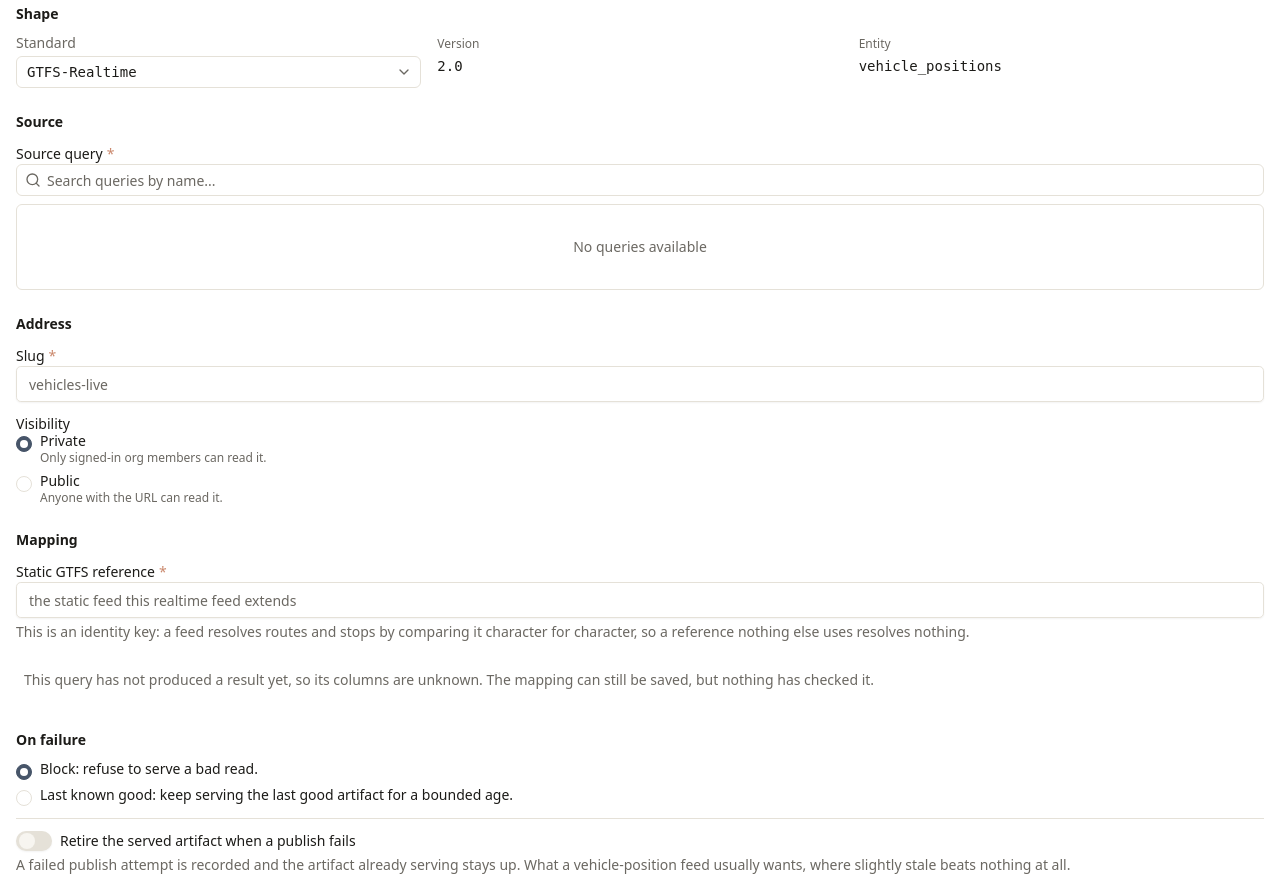
Test: retire on failure › states the consequence of the direction it is actually in
Click the switch named "retire the served artifact" at (34, 841), box x1=16 y1=831 x2=52 y2=851
(page scrolled)
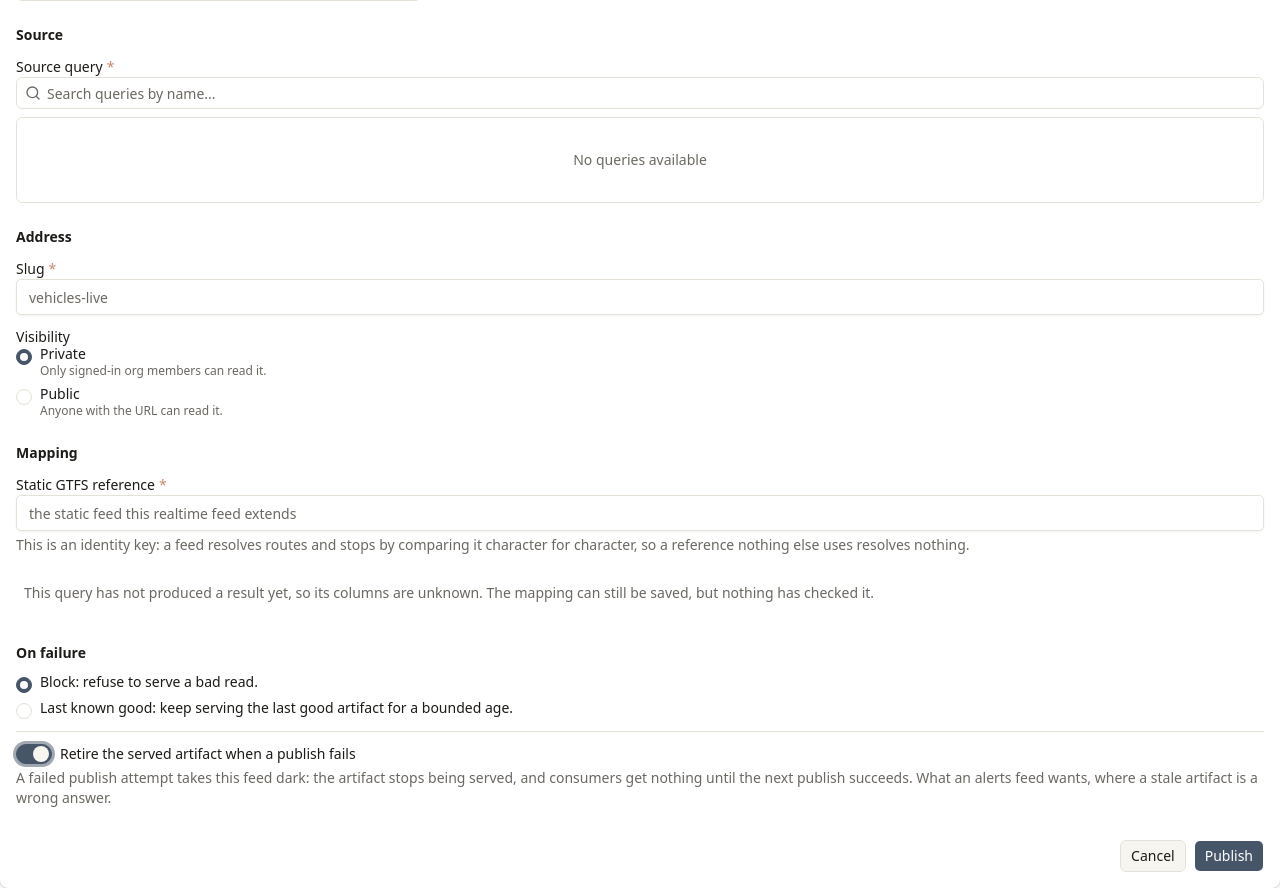
Now the text "takes this feed dark" is shown, box x1=16 y1=768 x2=1258 y2=807
Now the text "already serving stays up" is gone
